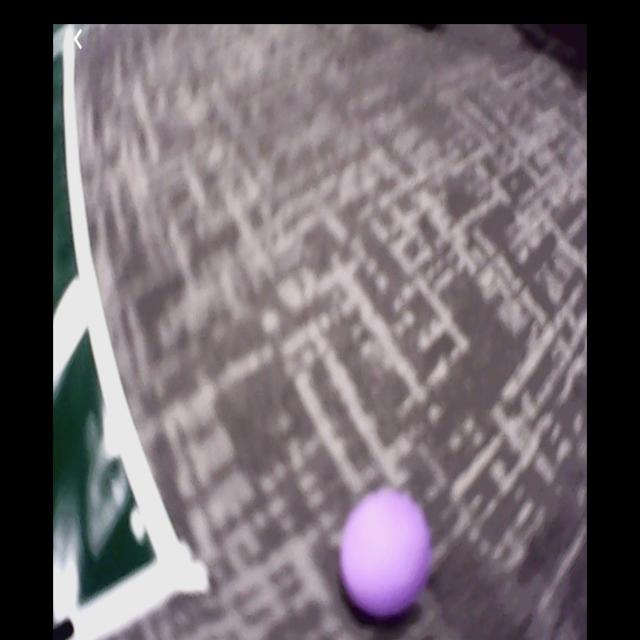ball: (342, 492, 433, 620)
